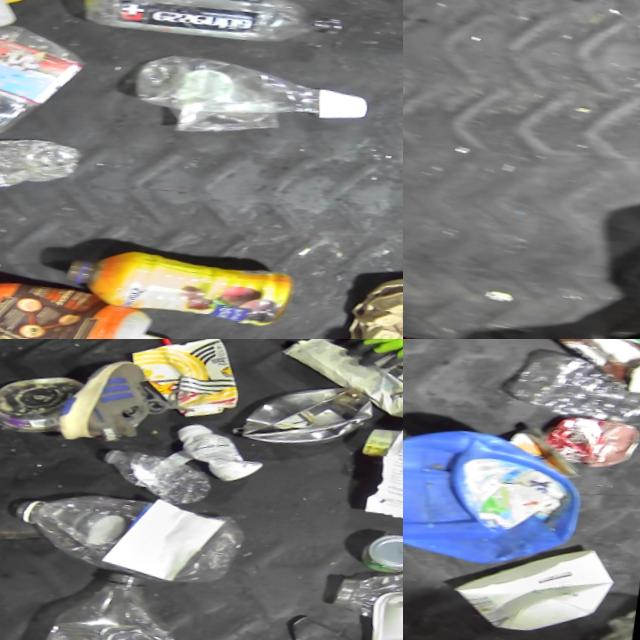can: (539, 416, 640, 482), (503, 427, 590, 491), (354, 534, 403, 584)
non_white_jug: (403, 417, 592, 587), (0, 257, 159, 339)
plastic_bottle: (17, 481, 245, 598), (75, 0, 348, 67), (128, 45, 329, 134), (0, 9, 91, 172), (30, 569, 187, 640), (100, 443, 217, 512), (0, 125, 84, 205)
